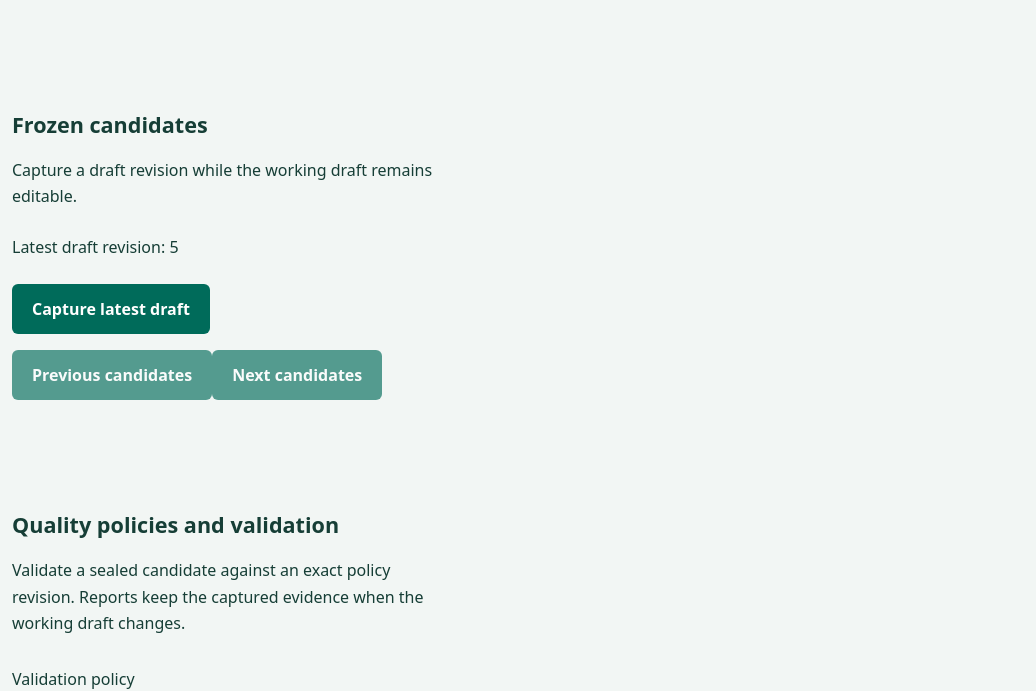
it: retries lost capture admission with the same request and source revision
The width and height of the screenshot is (1036, 691).
Expected: the text "Latest draft revision: 5" is shown, x1=12 y1=236 x2=178 y2=258
What coordinates should you click on to do the following:
click the button "Capture latest draft"
I would click on:
 (111, 309)
Its box is x1=12 y1=284 x2=210 y2=334.
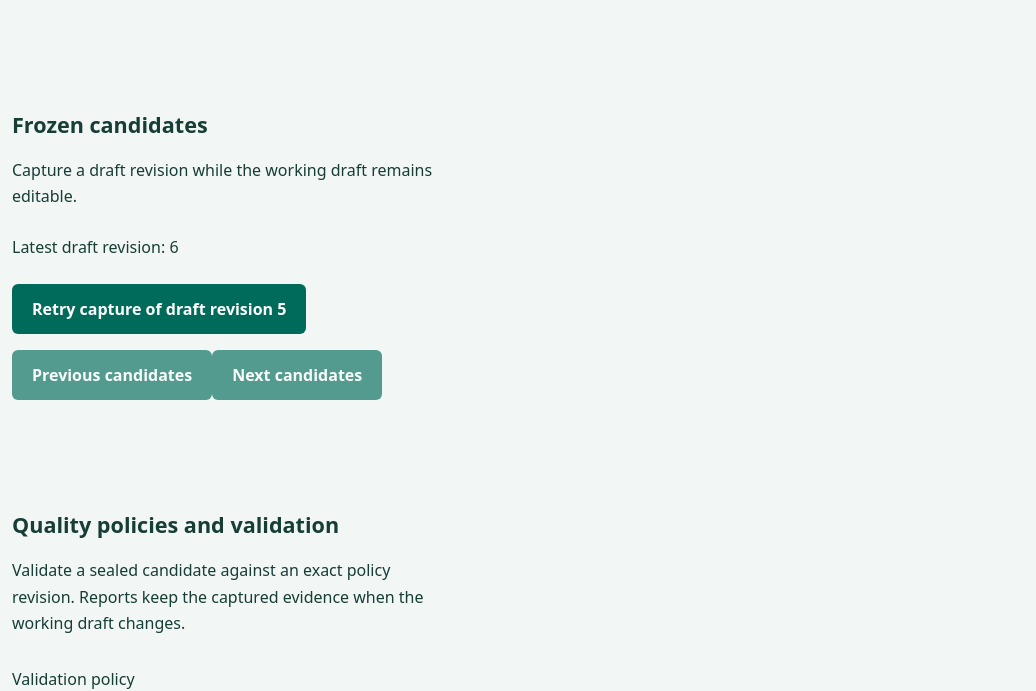
Result: the text "Latest draft revision: 6" is shown at x1=12 y1=236 x2=178 y2=258
What coordinates should you click on to do the following:
click the button "Retry capture of draft revision 5"
I would click on:
 (159, 309)
Its box is x1=12 y1=284 x2=306 y2=334.
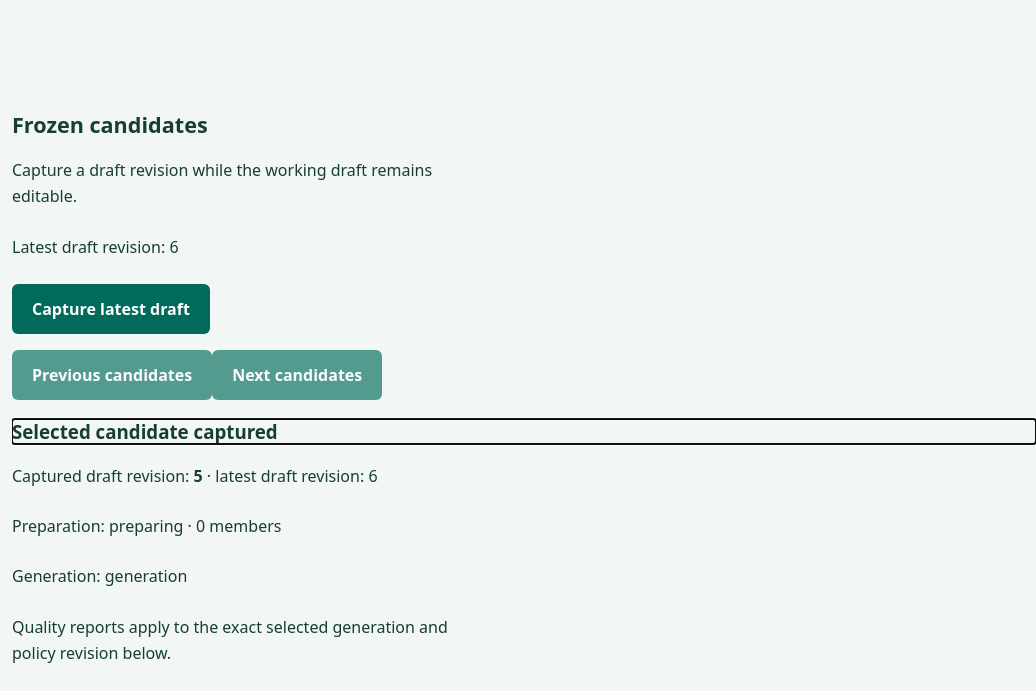
Result: the heading "Selected candidate captured" is shown at x1=12 y1=419 x2=278 y2=444
